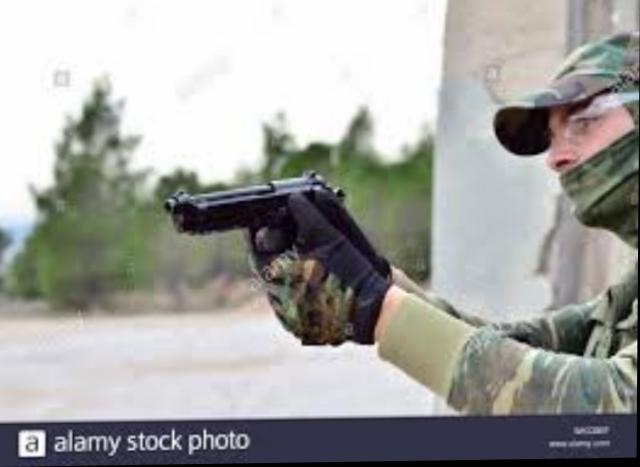other: (491, 55, 639, 399)
